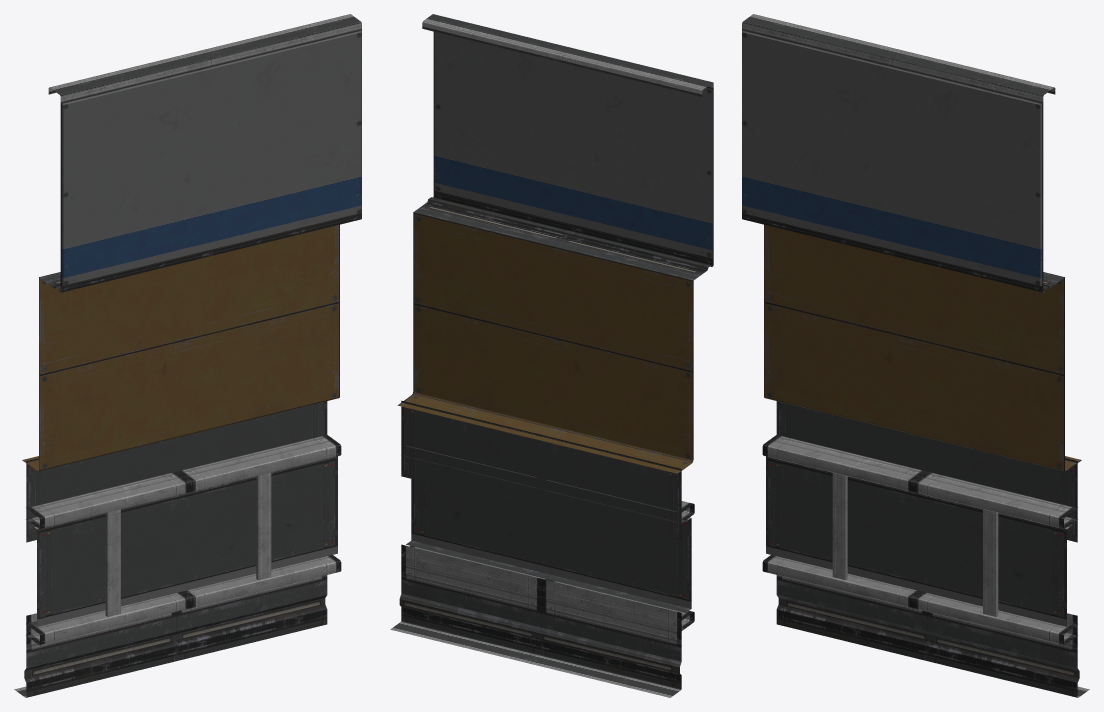
File: Subway_wall_Large1_Half_A.fbx
3 renders of one model, left to right at view 1: azimuth 30°, elevation 25°; view 2: azimuth 150°, elevation 25°; view 3: azimuth 330°, elevation 25°, orthographic. The views are drawn at different scales.
Visible parts, largest first — view 1: polySurface838; view 2: polySurface838; view 3: polySurface838.
Part boxes in pixels (x1,y1,x2,y2): polySurface838: [14, 14, 361, 697]; polySurface838: [390, 14, 713, 697]; polySurface838: [742, 14, 1089, 697].
Bounding box in the file's own units: 400 × 797 × 110.
